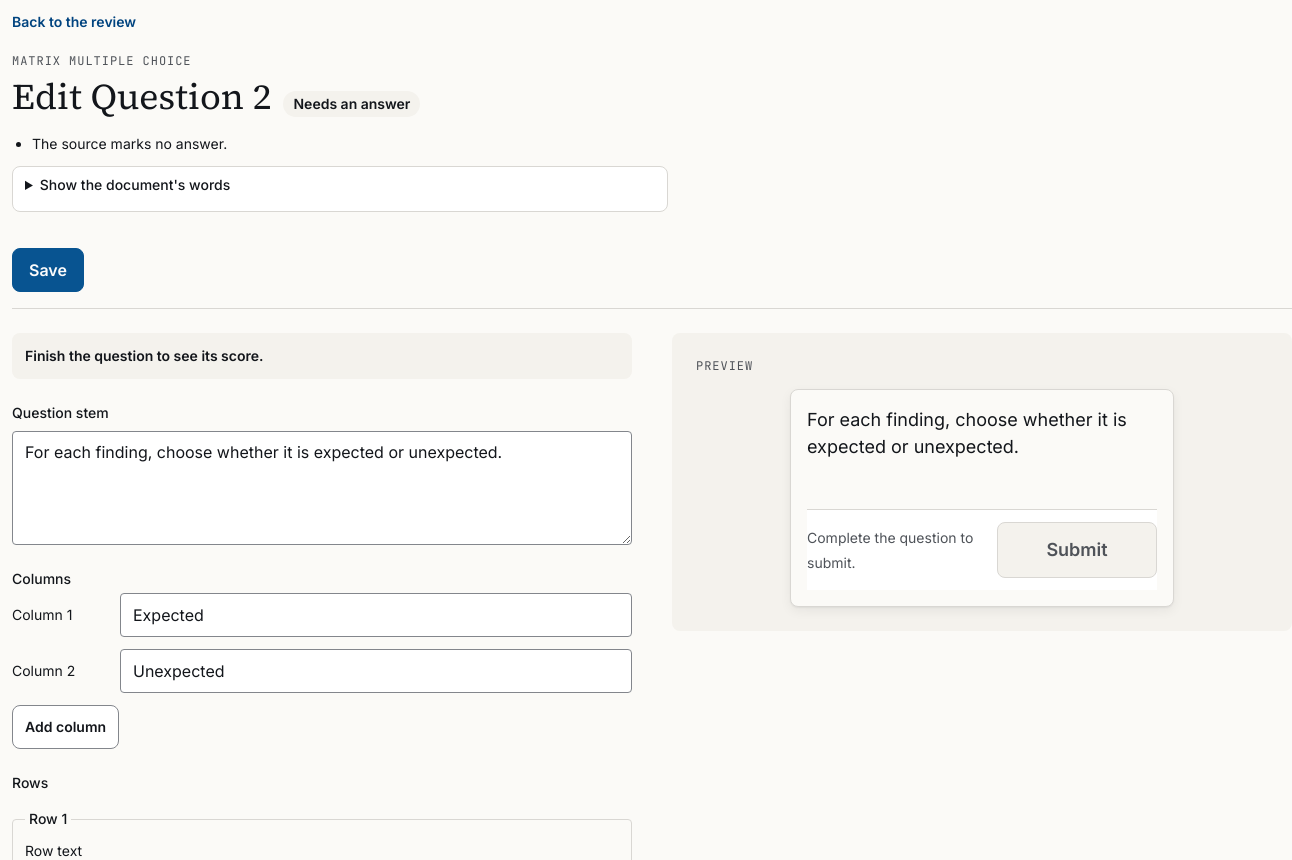
Test: AiImportEntryEditor › shows the question's status, what to check and its source, with Save and no Publish
Expected: the heading "Edit Question 2" is shown, [12, 75, 272, 118]
Expected: the text "Matrix Multiple Choice" is shown, [12, 53, 192, 69]
Click the heading "Show the document's words".
click(135, 185)  # box [40, 176, 230, 193]
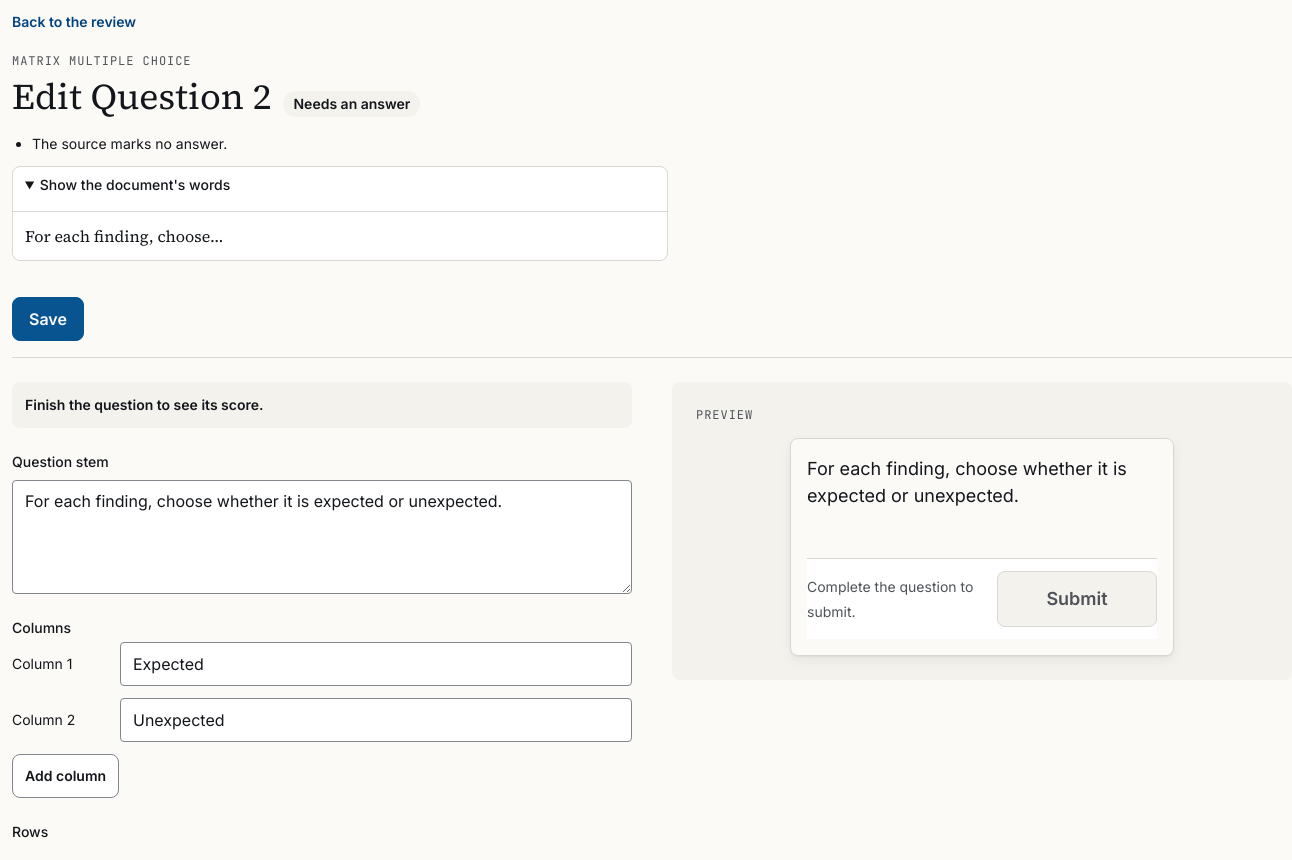
Expected: the button "Save" is shown, [12, 297, 84, 341]
Now the text "For each finding, choose..." is shown, box [13, 211, 667, 260]
